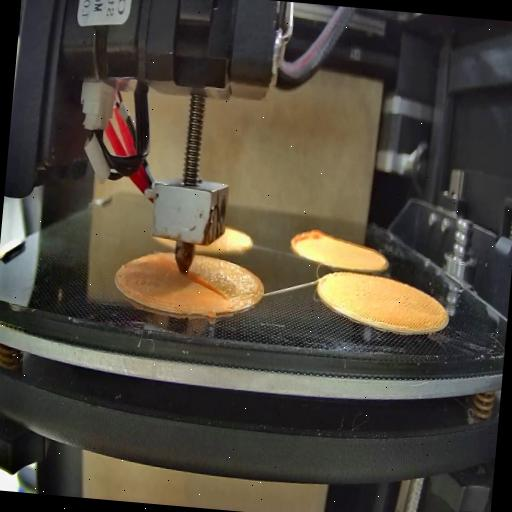over_extrusion: (184, 270, 236, 306), (289, 219, 327, 264)
